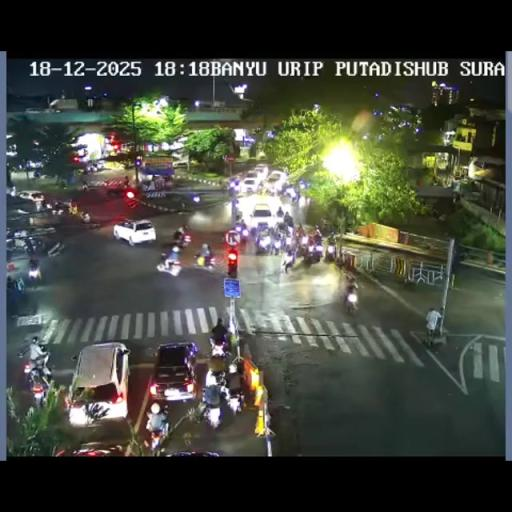Car: (66, 342, 130, 425), (148, 342, 198, 403), (112, 218, 155, 246), (55, 442, 128, 456), (6, 232, 46, 255), (249, 204, 275, 230), (103, 178, 131, 196), (264, 170, 286, 192), (18, 190, 44, 202), (242, 176, 260, 193), (254, 163, 270, 178), (172, 158, 189, 168)
Motorcycle: (236, 220, 319, 264), (22, 349, 52, 407), (145, 404, 168, 451), (204, 364, 229, 394), (202, 398, 223, 430), (208, 340, 231, 368), (156, 253, 182, 275), (226, 387, 245, 415), (192, 248, 215, 270), (28, 262, 42, 290), (344, 288, 358, 315), (174, 230, 192, 248), (46, 240, 64, 258), (300, 246, 314, 267), (282, 250, 294, 274), (255, 230, 268, 252), (344, 270, 357, 292), (254, 252, 266, 275), (270, 233, 282, 255), (292, 228, 306, 246), (47, 202, 65, 215), (233, 221, 246, 238), (15, 275, 26, 294), (283, 186, 297, 200), (162, 174, 174, 190), (282, 230, 292, 249), (326, 241, 336, 259), (249, 224, 259, 240), (228, 182, 238, 198), (312, 230, 322, 246), (320, 218, 330, 234), (298, 178, 310, 190), (283, 217, 294, 228), (80, 210, 90, 222), (85, 162, 95, 174), (234, 208, 242, 222), (232, 196, 239, 210), (67, 202, 75, 214), (8, 185, 16, 196), (276, 208, 284, 218), (82, 182, 88, 192), (102, 178, 109, 186), (33, 170, 40, 178)
